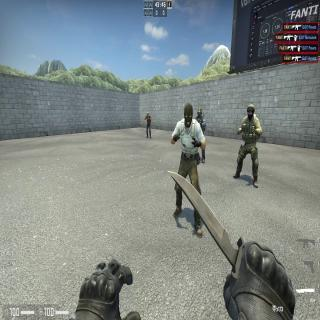CT-Body: (176, 105, 202, 244), (240, 103, 260, 187)
CT-Head: (183, 106, 194, 126), (247, 104, 254, 118), (197, 108, 202, 117)
T-Body: (146, 111, 152, 139)
T-Head: (147, 112, 149, 116)
